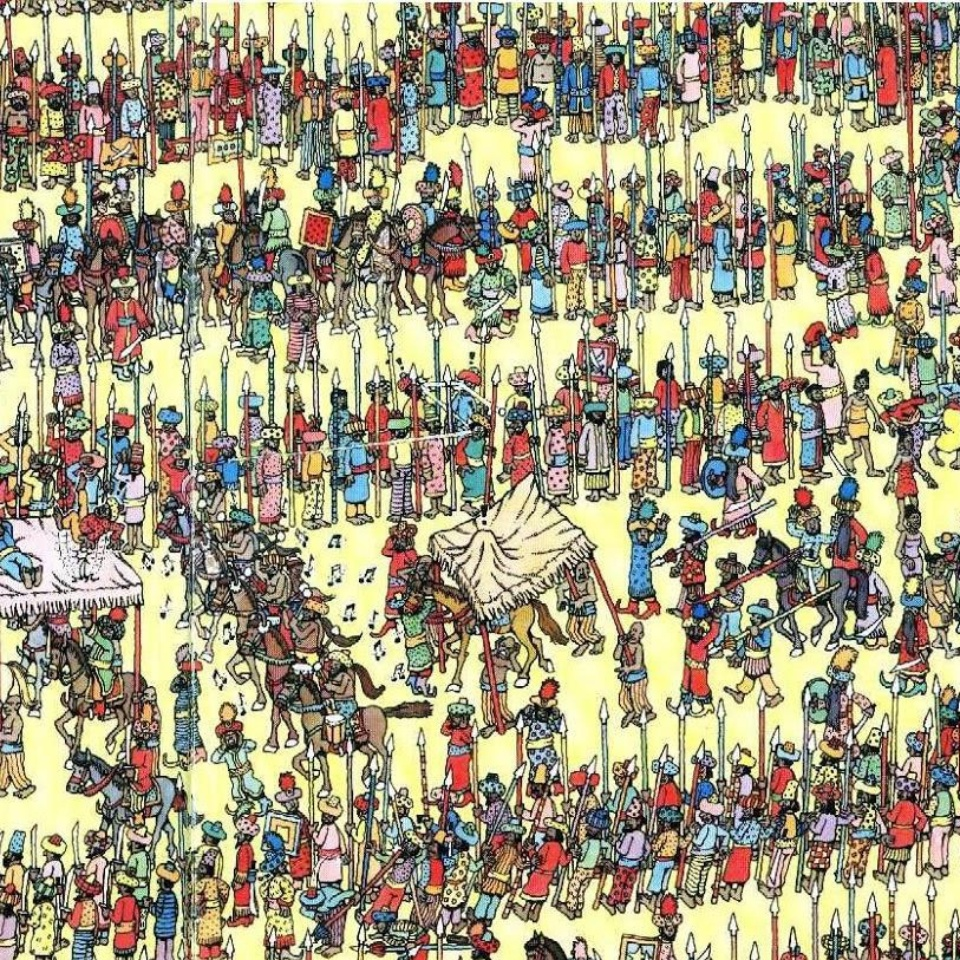waldo: (90, 185, 110, 217)
